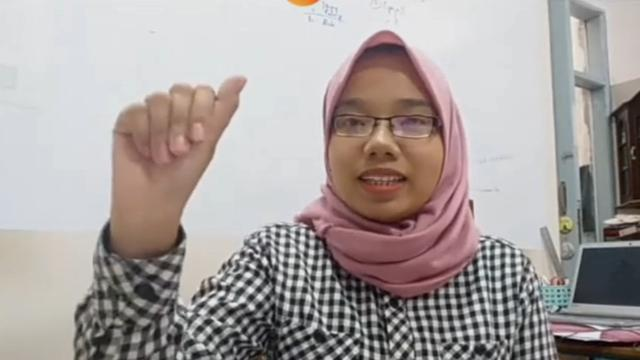A: (110, 74, 248, 188)
